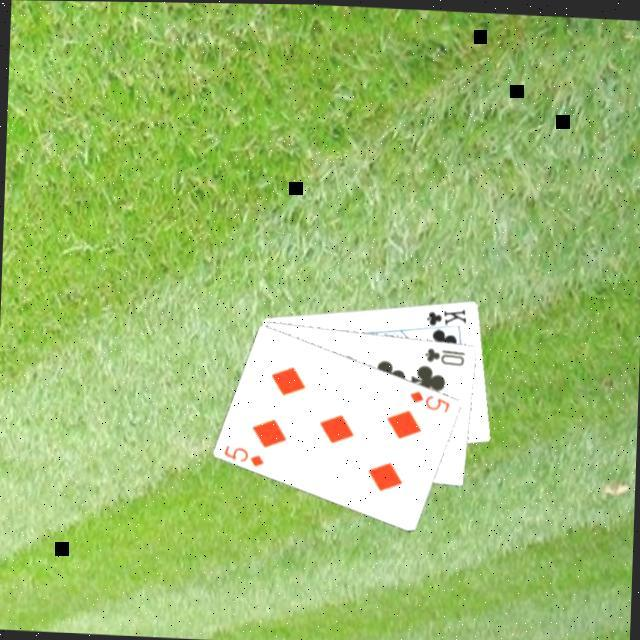10C: (422, 343, 470, 369)
5D: (222, 442, 270, 472), (408, 387, 454, 416)
KC: (422, 304, 471, 334)
